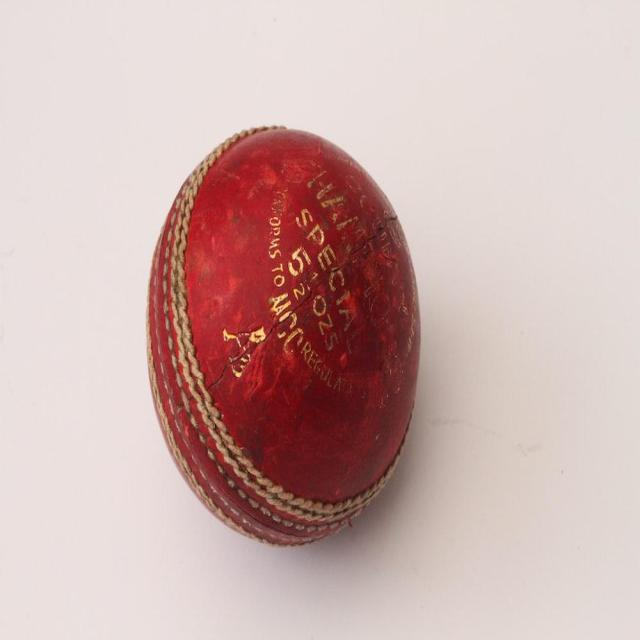ball: (145, 127, 421, 547)
